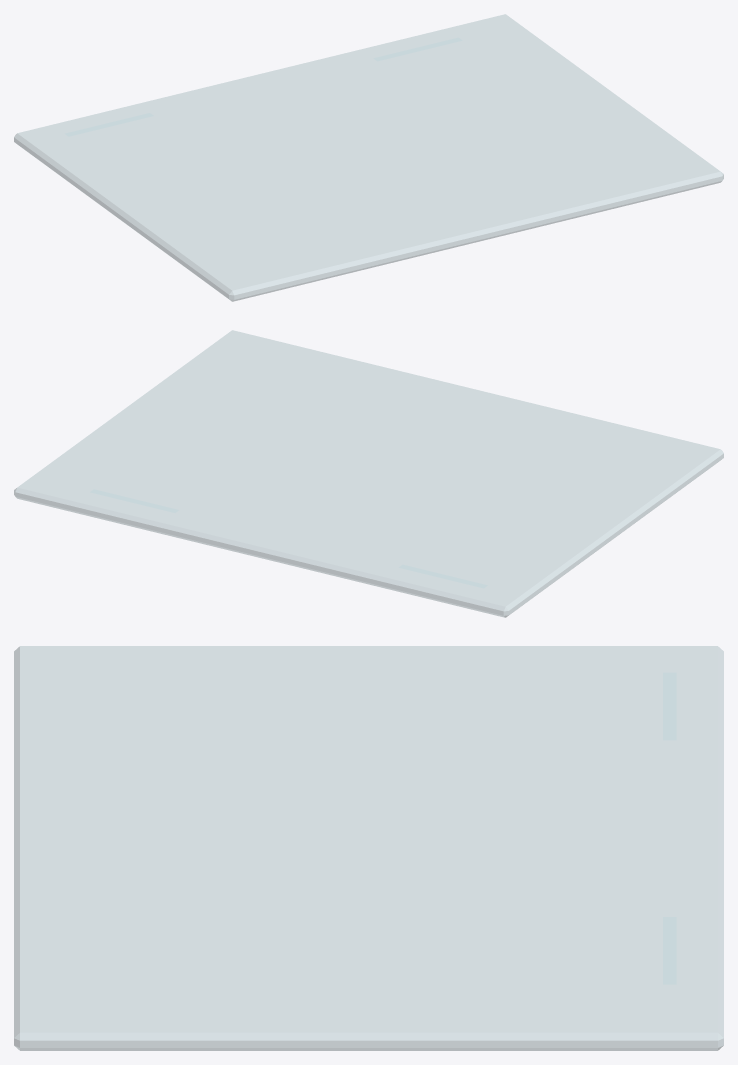
File: rigid_plastic_sheet.glb
3 renders of one model, top to bottom at view 1: azimuth 30°, elevation 25°; view 2: azimuth 150°, elevation 25°; view 3: azimuth 270°, elevation 25°, orthographic. The views are drawn at different scales.
Parts seen in each view (by area): view 1: block_stock material; view 2: block_stock material; view 3: block_stock material, block_edge glint (×2).
Part boxes in pixels (bbox=[...]): block_stock material: bbox=[14, 14, 723, 301]; block_stock material: bbox=[14, 330, 723, 617]; block_stock material: bbox=[14, 646, 723, 1050]; block_edge glint (×2): bbox=[663, 672, 676, 984].
Size of the model in its own units: 1.22 by 0.0274 by 0.9344.
1 material, 1 textured.
